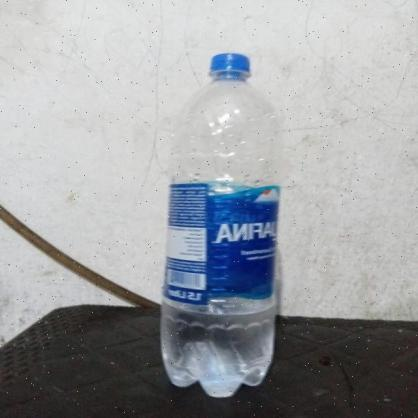bottle: (151, 41, 294, 402)
cap: (202, 51, 264, 84)
label: (156, 177, 286, 309)
